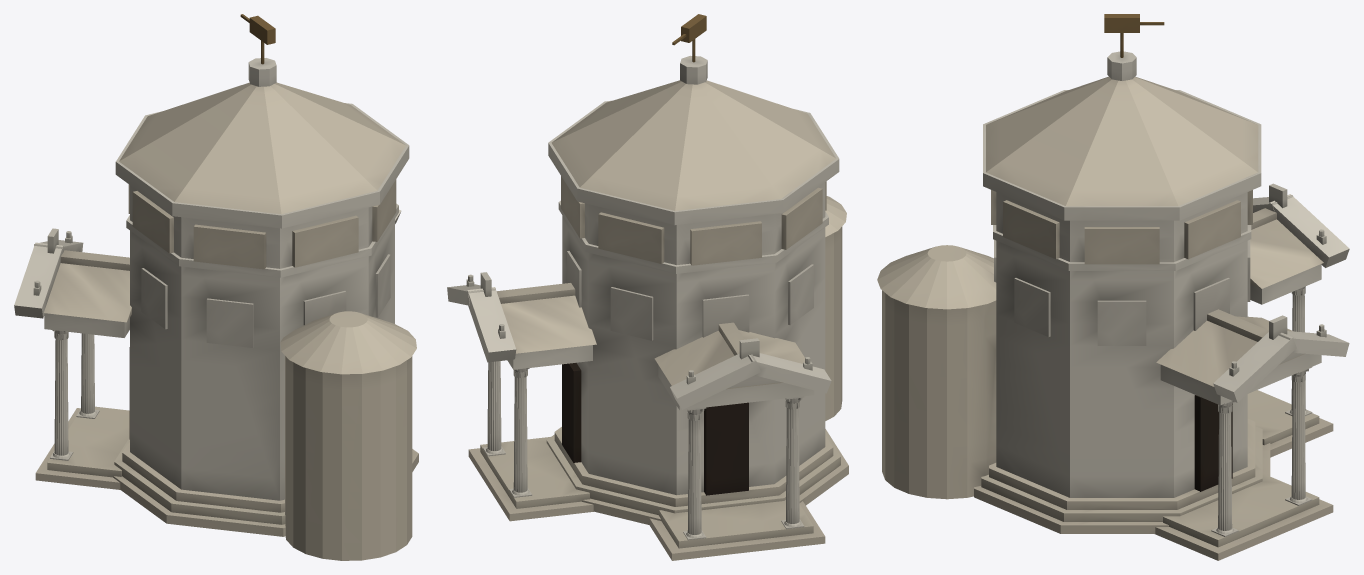
The model's file is tower-of-winds.glb.
3 views of the same model, side by side, from view 1: azimuth 30°, elevation 25°; view 2: azimuth 150°, elevation 25°; view 3: azimuth 270°, elevation 25° (orthographic). The views are drawn at different scales.
Parts seen in each view (by area): view 1: p0_tower, p1_porches, p2_roof; view 2: p0_tower, p1_porches, p2_roof; view 3: p0_tower, p1_porches, p2_roof.
Part boxes in pixels (x1,y1,x2,y2): p0_tower: [113, 179, 418, 536]; p1_porches: [14, 209, 416, 560]; p2_roof: [115, 14, 409, 228]; p0_tower: [546, 176, 848, 524]; p1_porches: [447, 196, 846, 560]; p2_roof: [548, 14, 839, 225]; p0_tower: [974, 190, 1270, 533]; p1_porches: [877, 183, 1349, 560]; p2_roof: [983, 14, 1261, 220].
Size of the model in its own units: 14 by 15.46 by 14.53.
